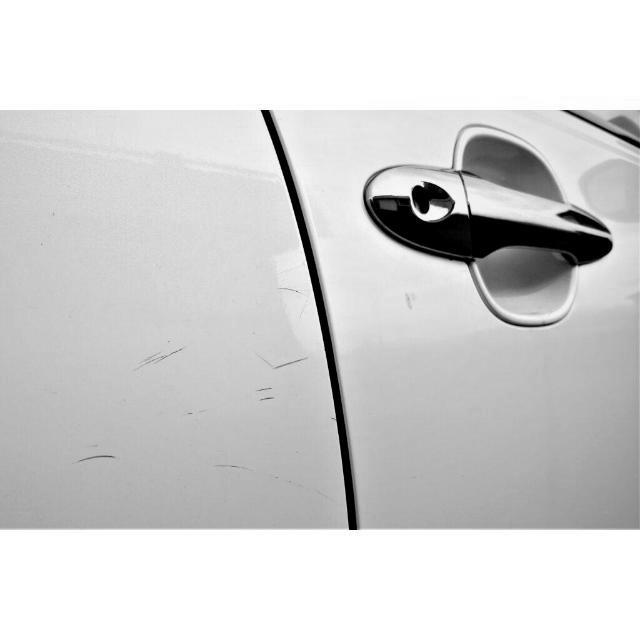doorouter-dent: (2, 114, 319, 528), (347, 116, 640, 529)
